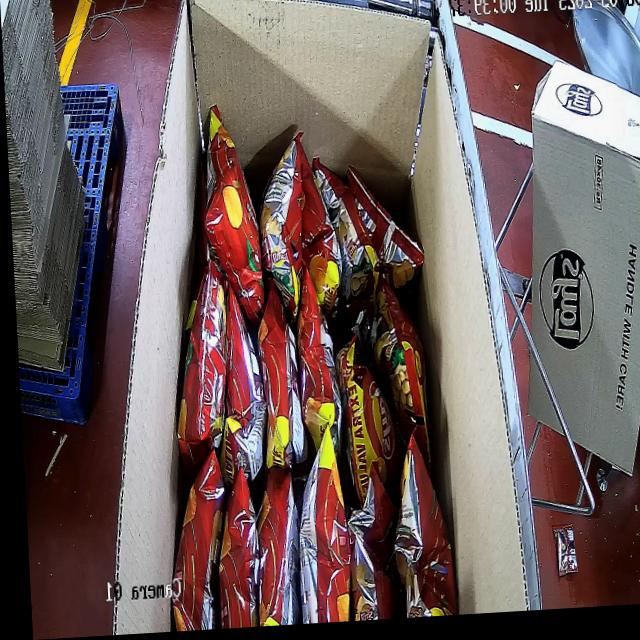MASALA: (146, 93, 458, 632)
